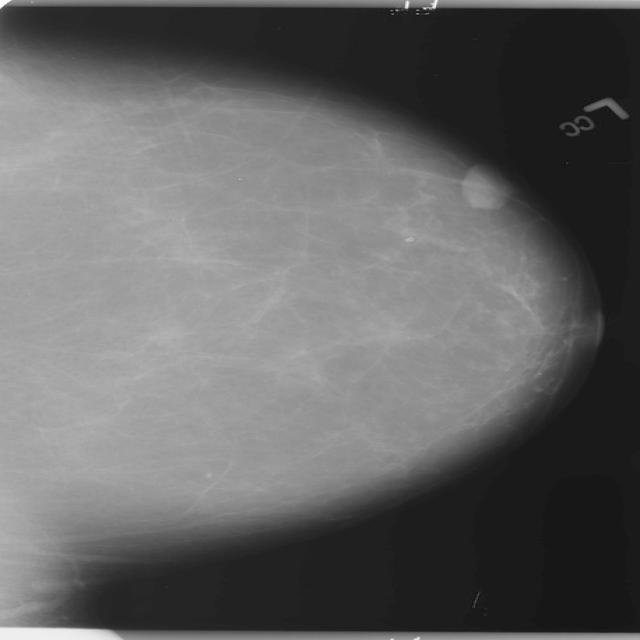tumour: (460, 167, 507, 208)
